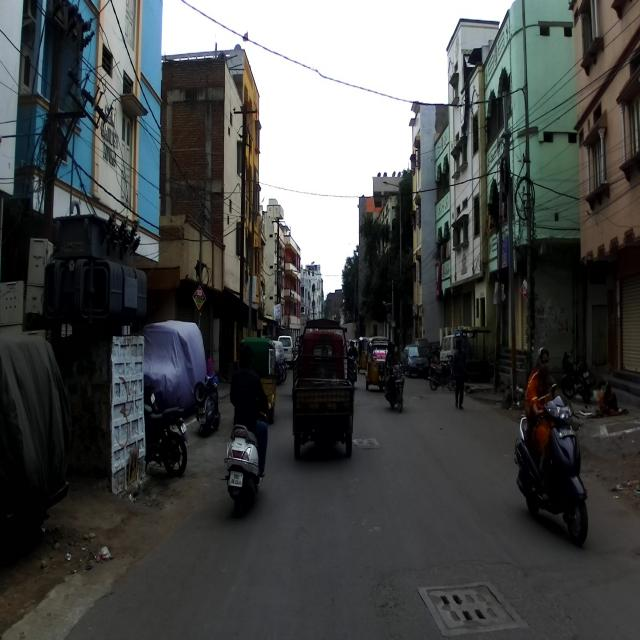Car: (0, 334, 73, 542), (139, 318, 208, 417)
autorickshaw: (290, 319, 355, 461)
scooter: (513, 384, 589, 549), (220, 396, 272, 517), (194, 370, 221, 437)
